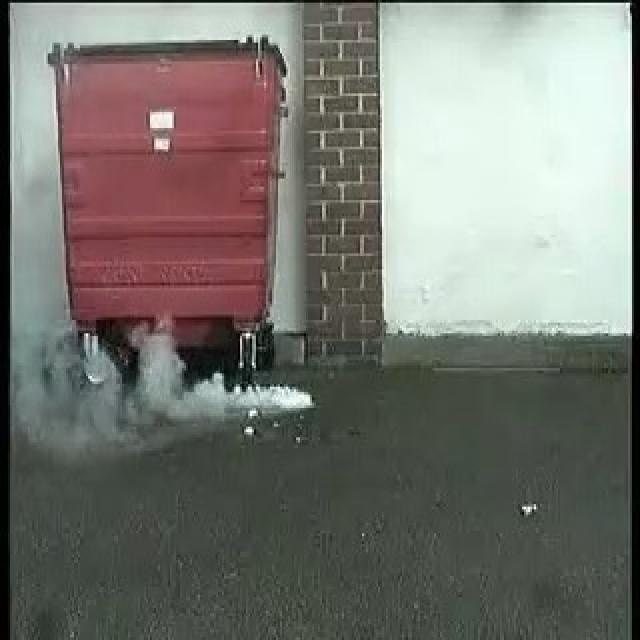smoke: (42, 323, 311, 419)
